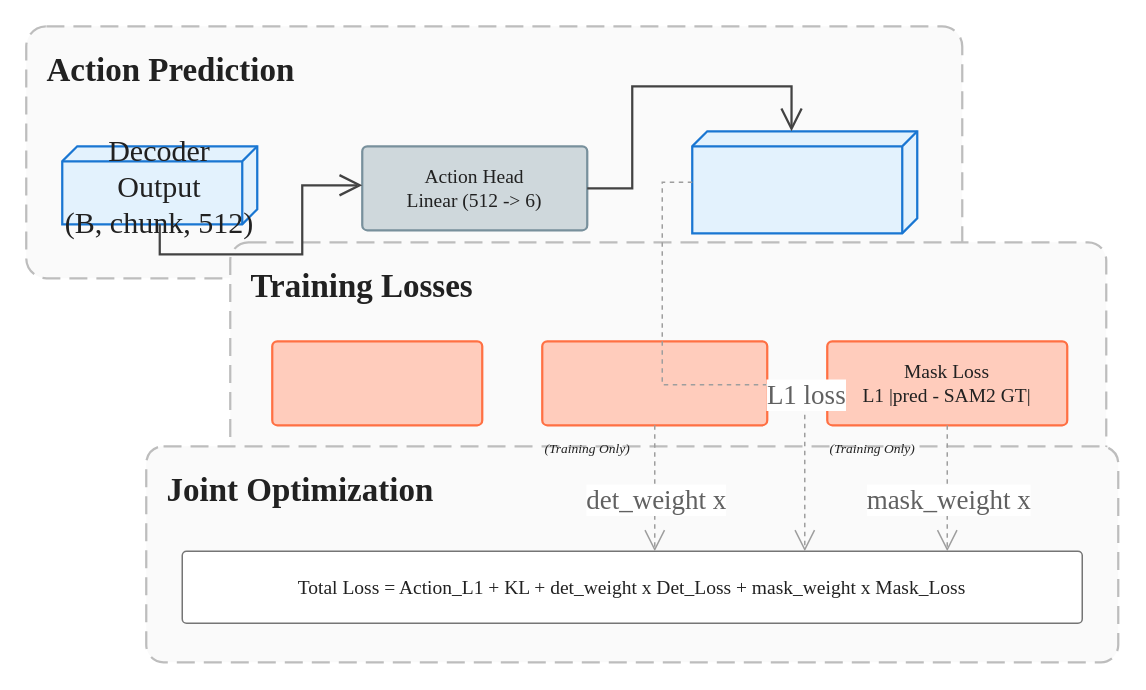
The diagram is 1146 pixels wide and 690 high, and some of its shapes have lost their labels. The shapes that lost their labels are listed below. From the top down, each one's centre as x and y in pixels, then its label:
At pixel 804 181: "Predicted Actions (chunk_size, 6) Joint Position Targets".
At pixel 376 382: "Action L1 Loss |GT - Pred|".
At pixel 654 382: "Detection Loss Focal + L1 + BCE".
